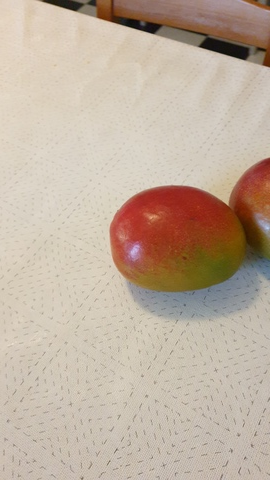Mango: (109, 185, 245, 291)
